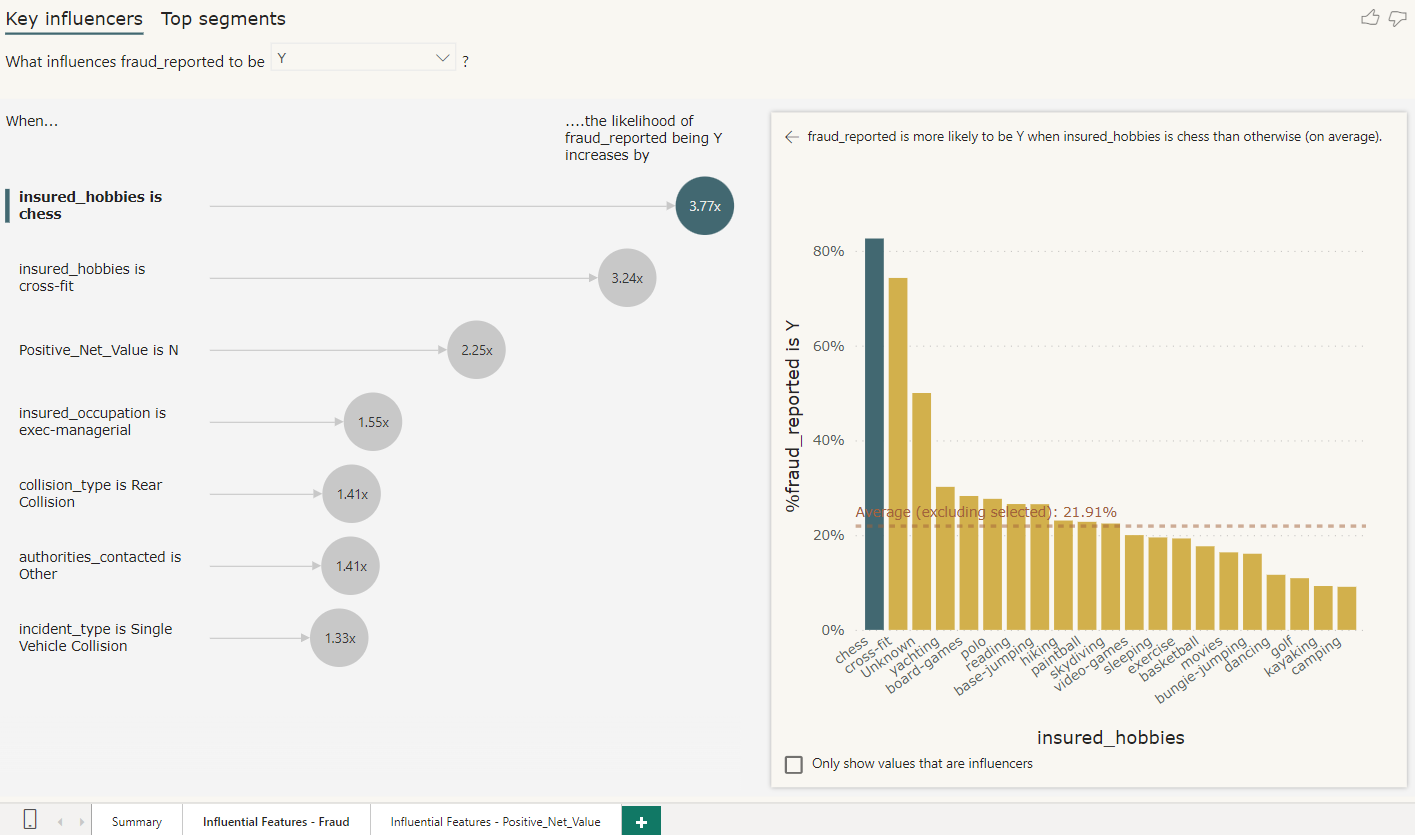

What the dashboard file says about the page in this screenshot:
{"tool":"powerbi","page":{"name":"Influential Features - Fraud ","canvas":[1280,720],"ordinal":1},"visuals":[{"type":"keyDriversVisual","fields":{"ExplainBy":["Advanced Features Claims Data (2).insured_hobbies","Advanced Features Claims Data (2).insured_occupation","Advanced Features Claims Data (2).incident_type","Advanced Features Claims Data (2).incident_location","Advanced Features Claims Data (2).ages_category","Advanced Features Claims Data (2).authorities_contacted","Advanced Features Claims Data (2).collision_type","Advanced Features Claims Data (2).Positive_Net_Value"],"Target":["Advanced Features Claims Data (2).fraud_reported"]},"box":[0,0,1279.7,720],"z":0}]}

Visuals, with their boxes on the page's 1280x720 design canvas (x1, y1, x2, y2). These are canvas units, not pixel positions in the 1415x835 screenshot, which may show the page scaled, cropped or inside an application window:
keyDriversVisual - Advanced Features Claims Data (2).insured_hobbies x Advanced Features Claims Data (2).insured_occupation: bbox(0, 0, 1280, 720)
